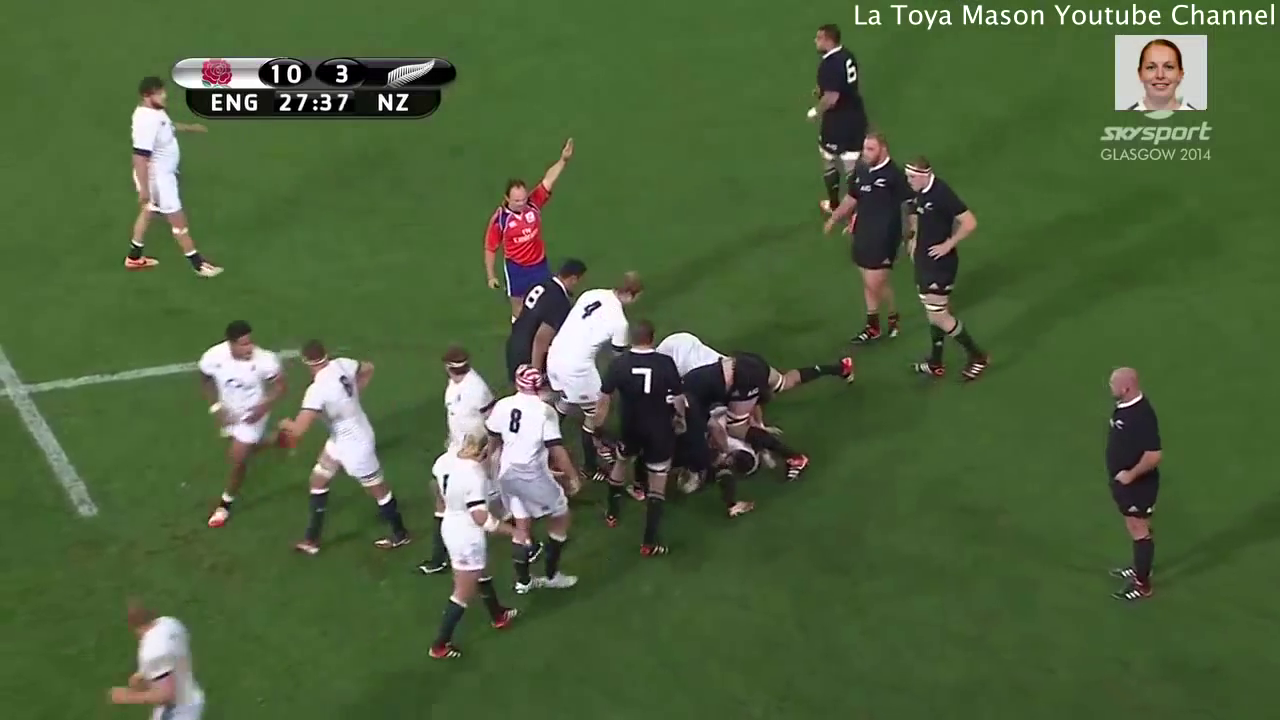player: (116, 72, 232, 294), (289, 333, 401, 557), (485, 368, 589, 600), (897, 153, 997, 392), (423, 421, 513, 666), (193, 316, 291, 530), (1093, 360, 1174, 609), (596, 319, 677, 566), (671, 352, 805, 478), (833, 135, 912, 346), (101, 592, 218, 720), (477, 131, 577, 280), (548, 265, 648, 403), (803, 19, 865, 210), (501, 252, 591, 370), (439, 352, 491, 446)
ruck: (621, 320, 829, 499)
